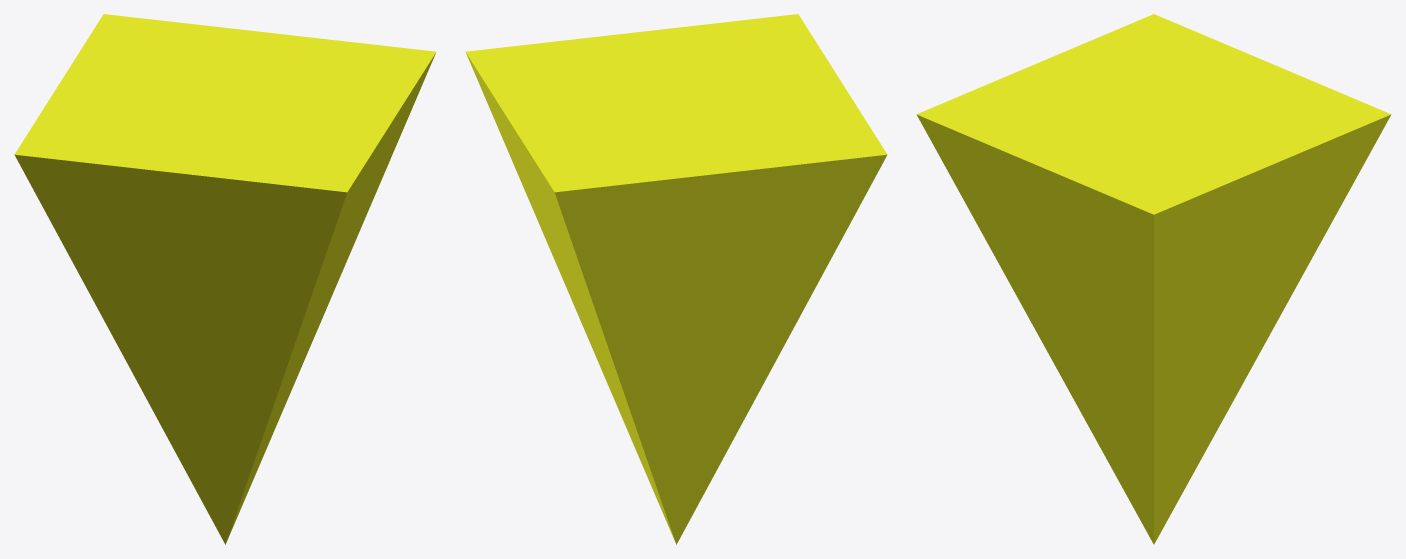
The model's file is highlight.glb.
The picture shows the model from 3 angles, left to right: view 1: azimuth 30°, elevation 25°; view 2: azimuth 150°, elevation 25°; view 3: azimuth 270°, elevation 25°; orthographic projection. The views are drawn at different scales.
Parts seen in each view (by area): view 1: cone_marker; view 2: cone_marker; view 3: cone_marker.
Part boxes in pixels (left/top/right/bottom): cone_marker: left=14, top=14, right=436, bottom=544; cone_marker: left=465, top=14, right=887, bottom=544; cone_marker: left=916, top=14, right=1391, bottom=544.
Size of what is drawn, in the model's own units: 0.5 by 0.5 by 0.5.
